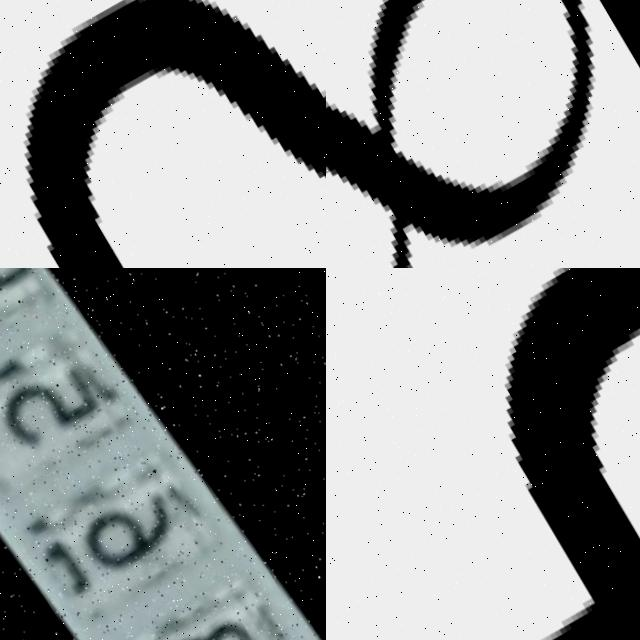0: (0, 268, 54, 333)
3: (146, 594, 280, 640)
5: (0, 335, 127, 469)
6: (61, 460, 203, 596)
8: (326, 0, 640, 268)
P: (500, 268, 640, 640)
S: (0, 0, 326, 268)
